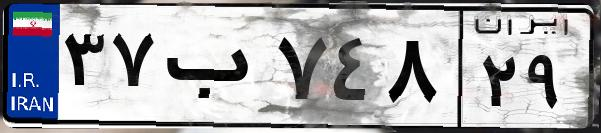2: (475, 38, 525, 113)
3: (57, 26, 110, 100)
4: (330, 28, 385, 110)
7: (270, 28, 330, 110), (110, 28, 158, 98)
8: (385, 28, 445, 110)
9: (525, 38, 570, 115)
ب: (158, 20, 270, 120)
